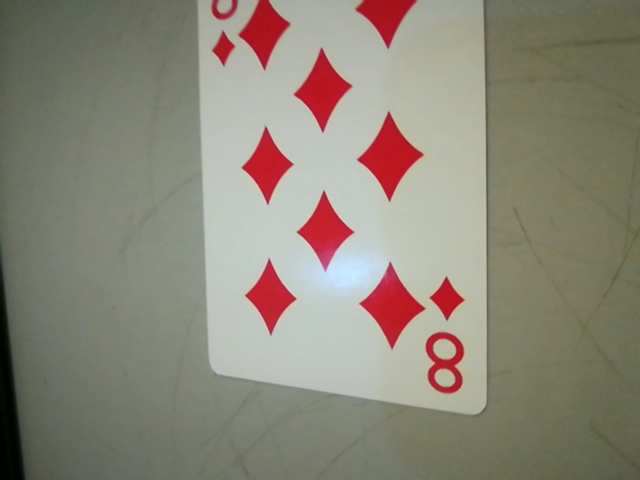fk 8: (413, 270, 480, 408)
